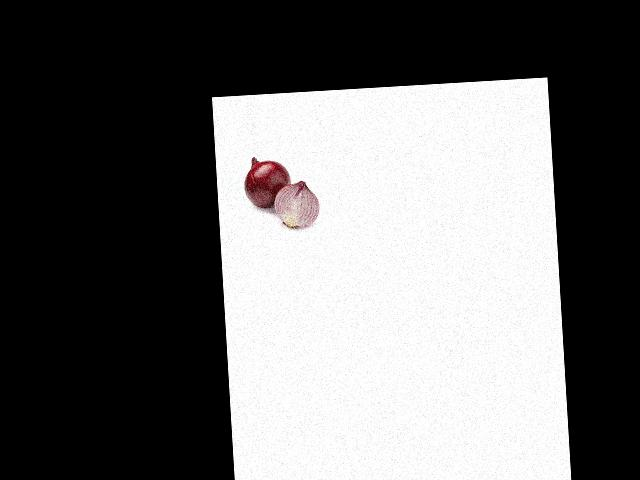onion: (276, 179, 319, 228)
